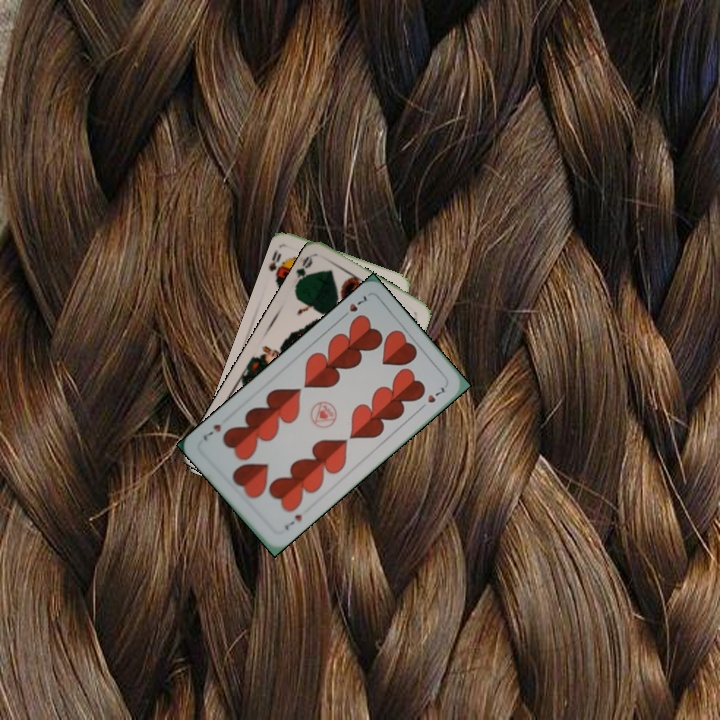GO: (291, 252, 315, 291)
H7: (337, 291, 369, 322), (281, 510, 306, 533)
SO: (265, 245, 287, 285)
